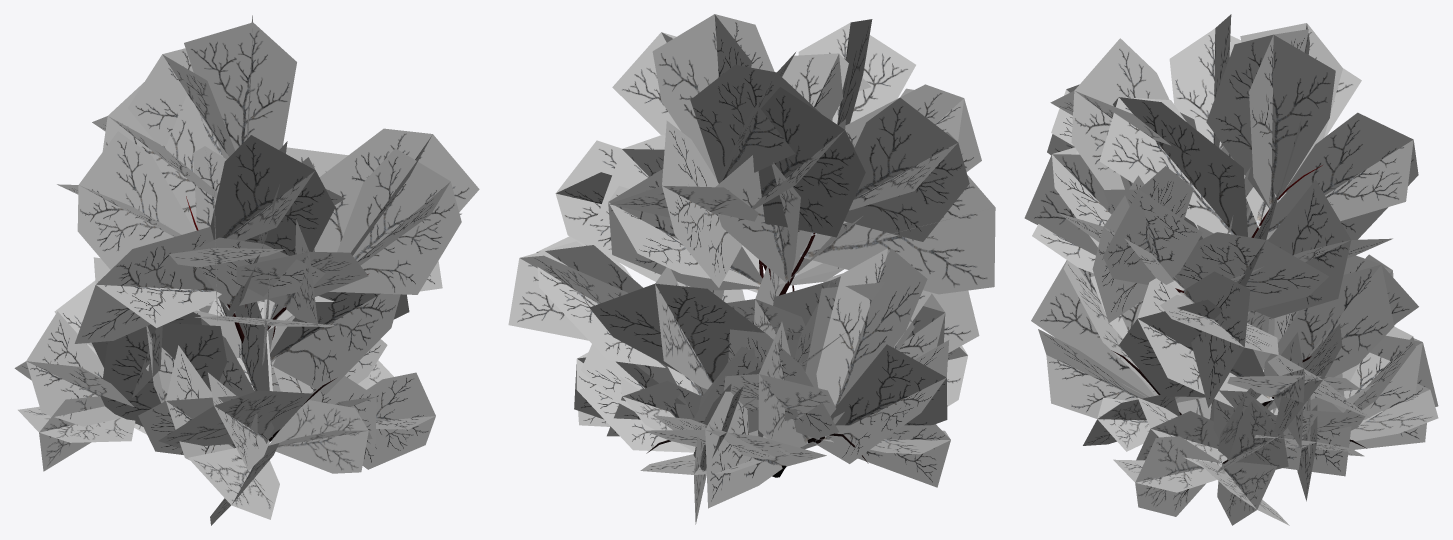
File: Bush_A_06.fbx
The picture shows the model from 3 angles, left to right: view 1: azimuth 30°, elevation 25°; view 2: azimuth 150°, elevation 25°; view 3: azimuth 270°, elevation 25°; orthographic projection. The views are drawn at different scales.
Parts seen in each view (by area): view 1: Bush_A_06_LOD0; view 2: Bush_A_06_LOD0; view 3: Bush_A_06_LOD0.
Part boxes in pixels (x1,y1,x2,y2): Bush_A_06_LOD0: (14,15,479,525); Bush_A_06_LOD0: (508,14,995,524); Bush_A_06_LOD0: (1024,14,1438,525).
Size of what is drawn, in the model's own units: 583 by 614 by 506.
